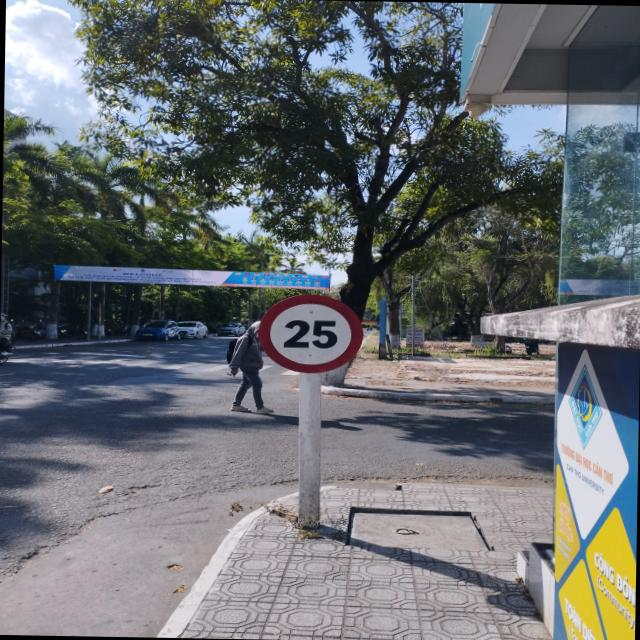Tre_Em: (258, 292, 366, 374)
